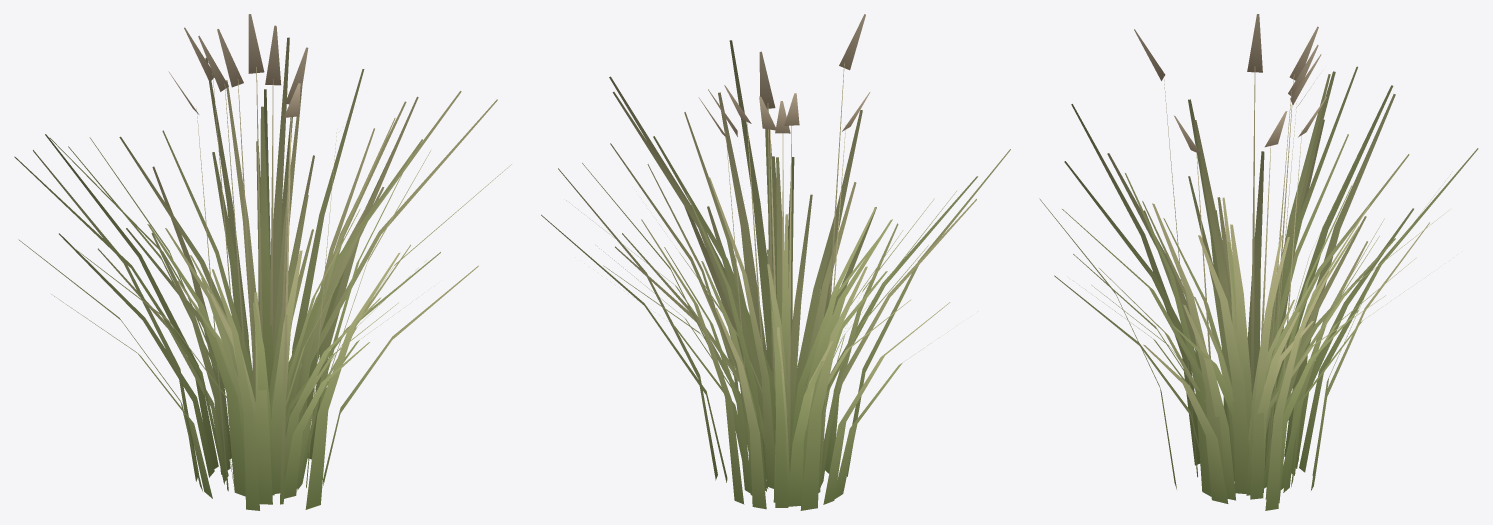
File: canna_2.glb
3 renders of one model, left to right at view 1: azimuth 30°, elevation 25°; view 2: azimuth 150°, elevation 25°; view 3: azimuth 270°, elevation 25°, orthographic. The views are drawn at different scales.
Parts seen in each view (by area): view 1: canna_2; view 2: canna_2; view 3: canna_2.
Boxes of the visible parts, x1,y1,x2,y2 form: canna_2: [14, 14, 511, 510]; canna_2: [541, 14, 1010, 510]; canna_2: [1039, 14, 1478, 510].
Bounding box in the file's own units: 3.57 × 3.67 × 3.32.
